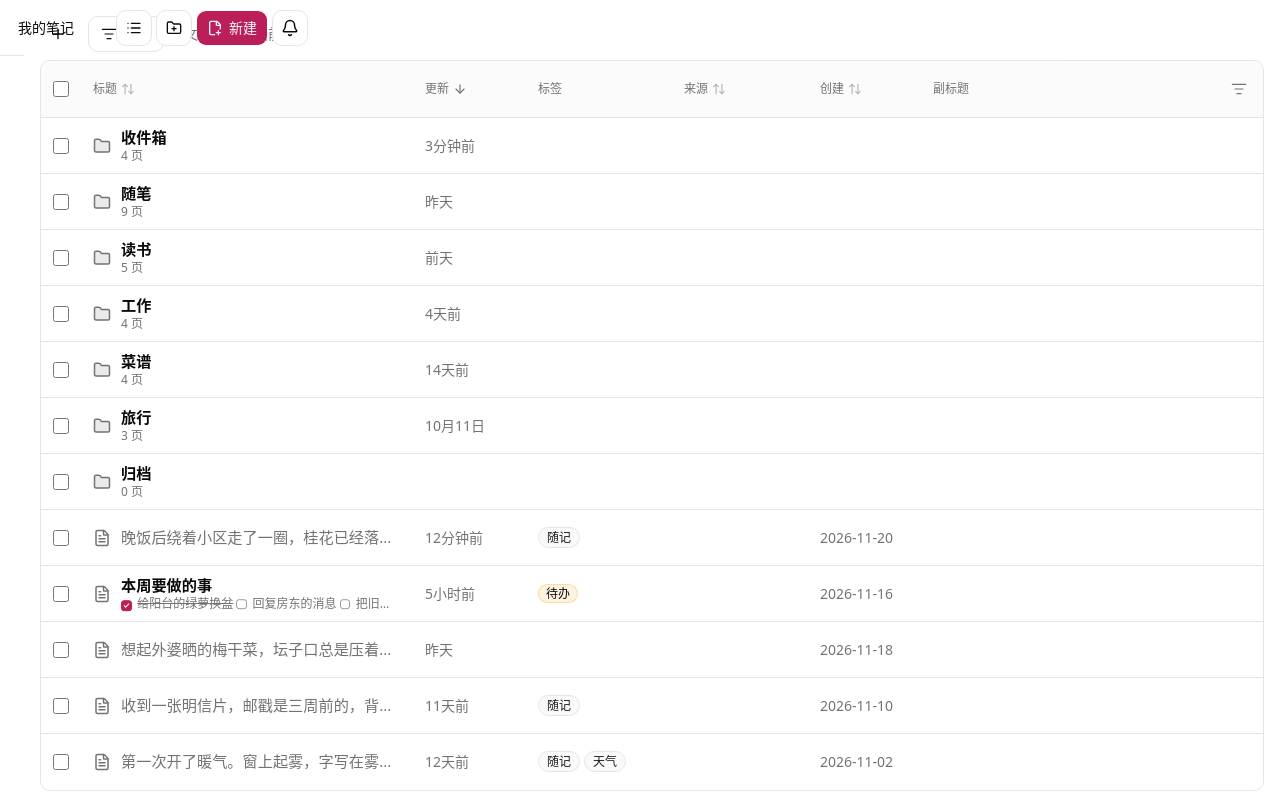
Test: the folder listing › shows the selection bar once something is selected, and Clear removes it
The width and height of the screenshot is (1280, 800).
Later steps or results of the test are not shown.
What coordinates should you click on to do the following:
click the checkbox named "选择 随笔"
I would click on:
 (61, 202)
Its box is [53, 194, 69, 210].
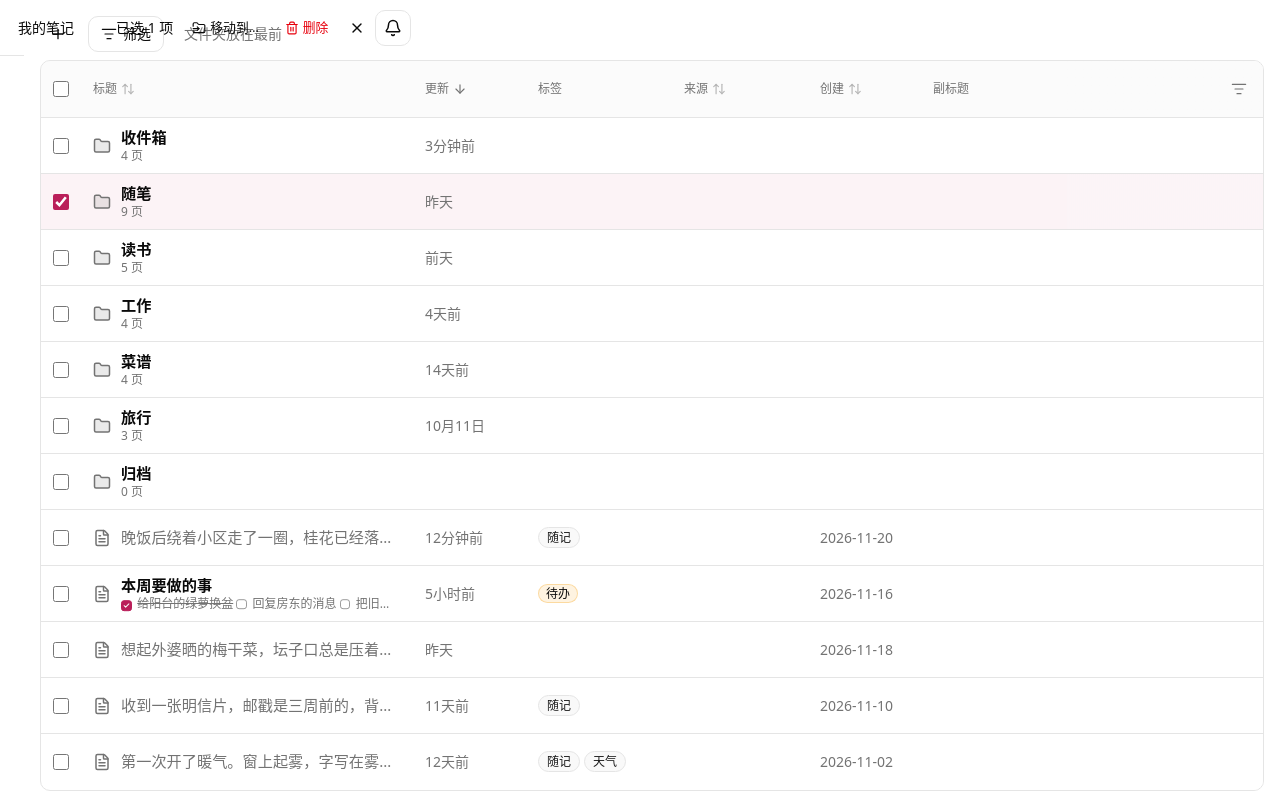
What coordinates should you click on to do the following:
click the checkbox named "选择 归档"
I would click on:
 (61, 482)
Its box is [53, 474, 69, 490].
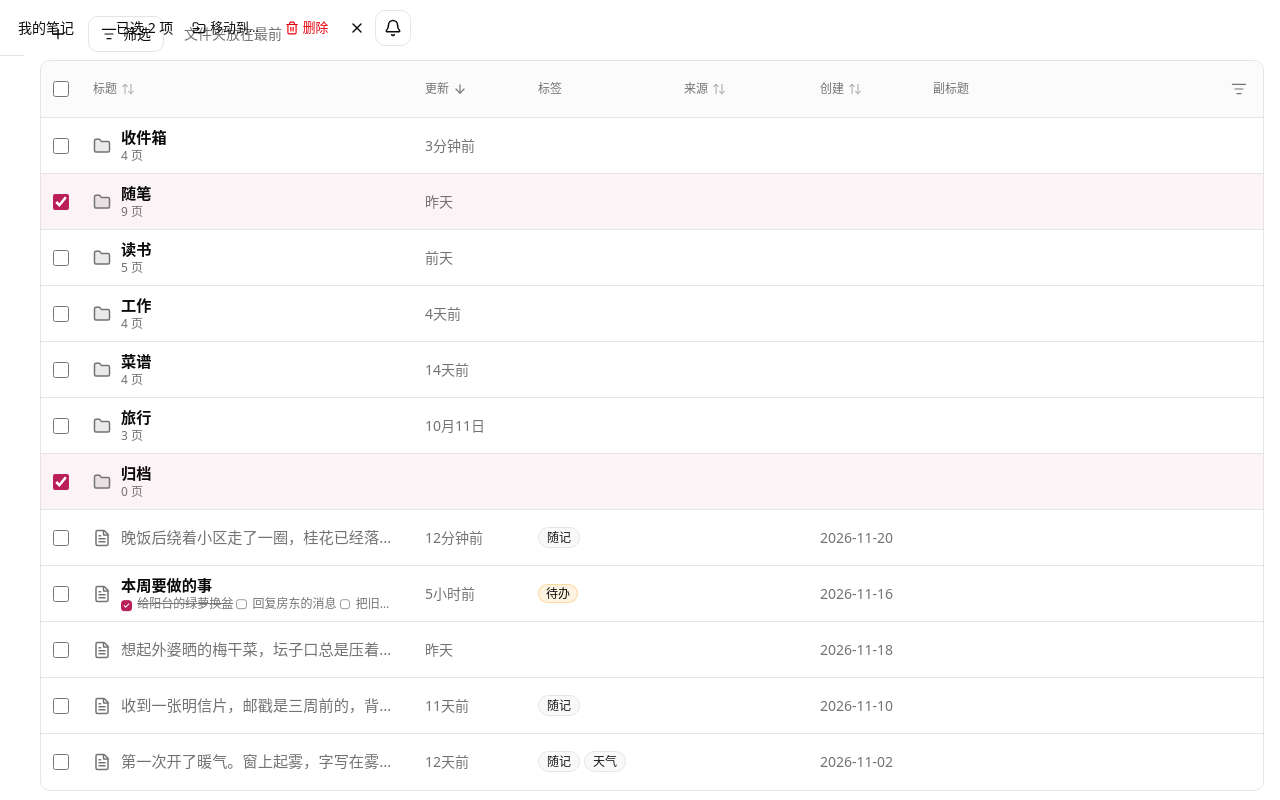
Expected: the element showing "已选 2 项 移动到… 删除" is shown, [116, 14, 371, 42]
